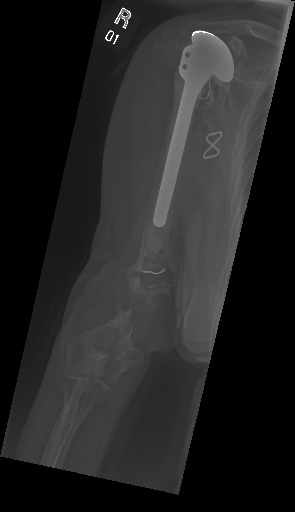implant: (151, 27, 236, 231)
